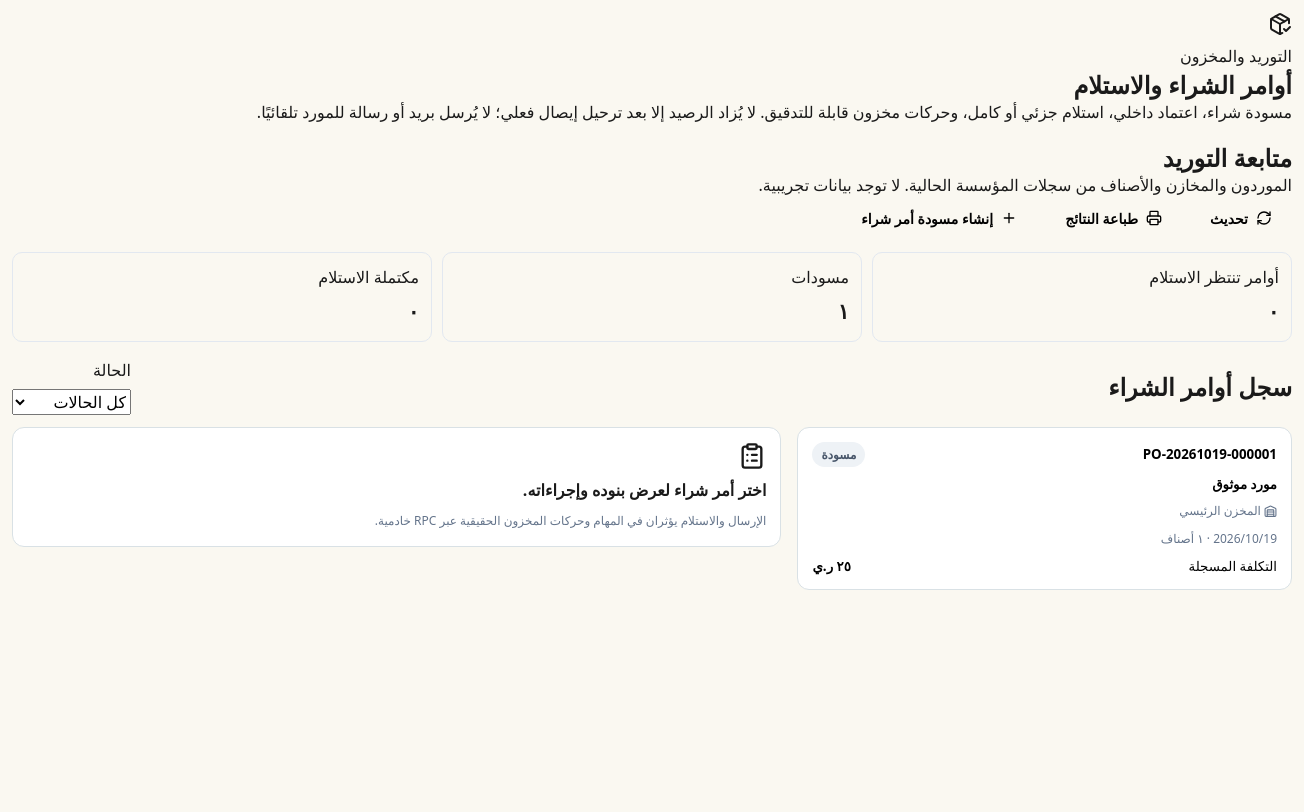
purchase orders page › loads real supplier/catalog references and allows managers to select and submit a saved draft
expect the text "PO-20261019-000001" is shown: met, box 1143,445 -> 1277,463
Click the button "PO-20261019-000001". click: (1210, 454)
box: 797,426 -> 1292,590
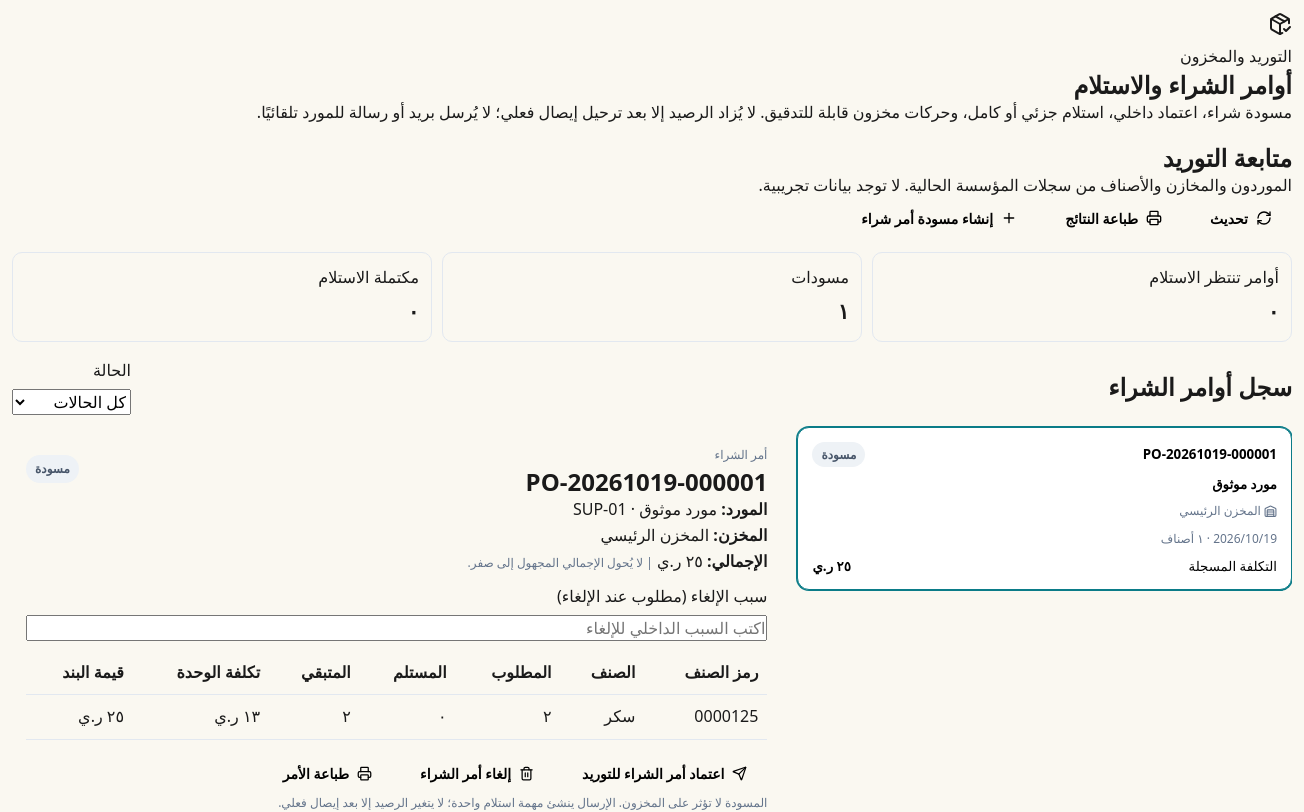
expect the text "مورد موثوق" is shown: met, box 1212,474 -> 1277,492
Click the button "اعتماد أمر الشراء للتوريد". click: (665, 773)
box: 562,754 -> 767,793
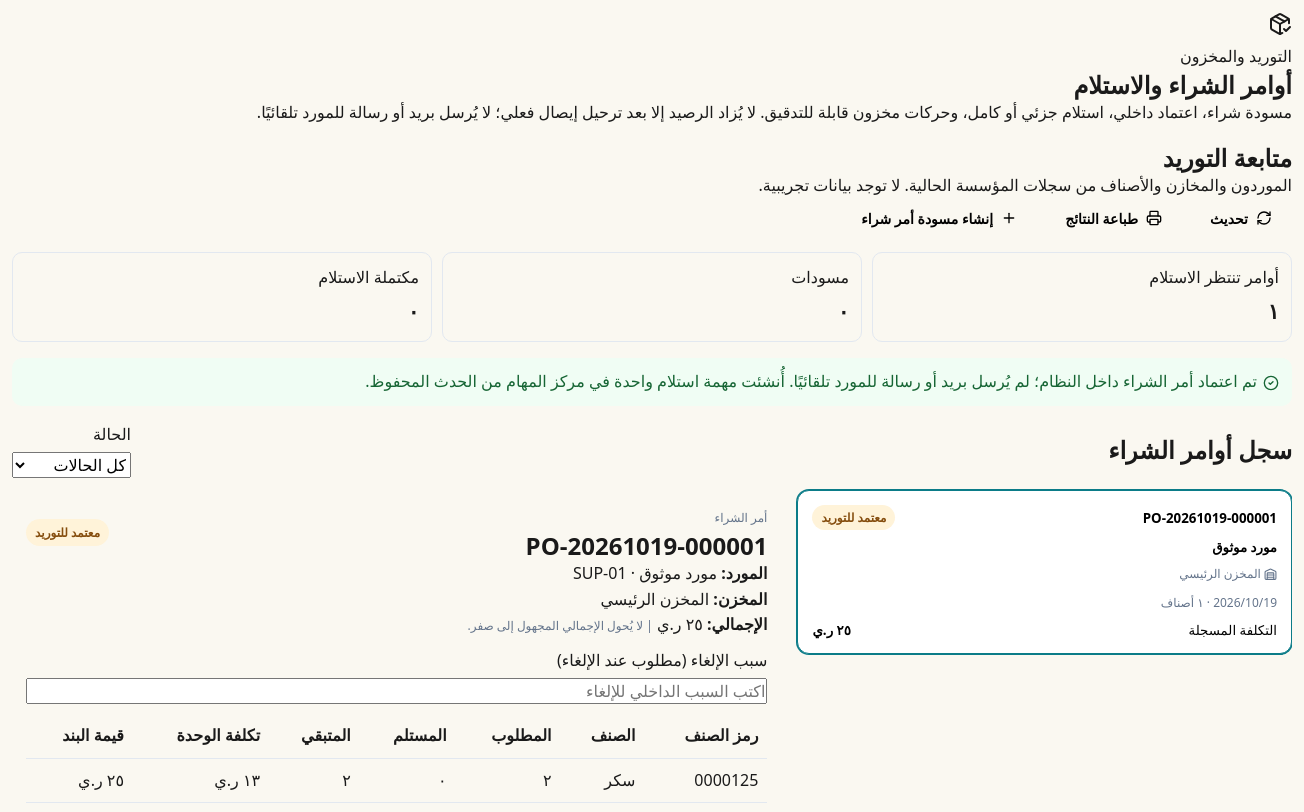
expect the text "تم اعتماد أمر الشراء داخل النظام" is shown: met, box 365,370 -> 1257,392
